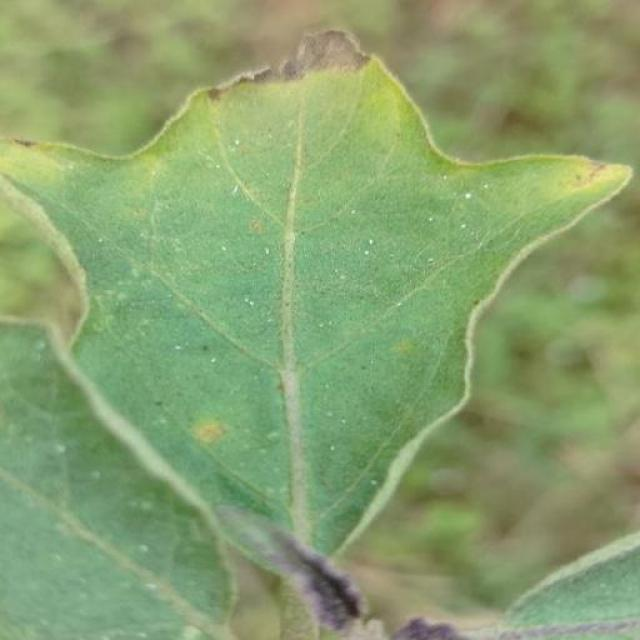leaf_spot: (214, 492, 484, 640), (374, 61, 640, 202), (125, 222, 257, 367), (2, 106, 162, 221), (28, 208, 120, 364), (231, 92, 408, 172), (217, 27, 389, 98), (356, 156, 463, 240), (152, 84, 242, 144), (470, 232, 521, 337), (236, 271, 312, 338), (234, 168, 277, 250), (451, 186, 506, 240), (311, 404, 360, 462), (182, 407, 243, 448), (128, 574, 191, 604), (381, 324, 421, 366), (93, 280, 135, 316), (96, 622, 160, 640), (324, 249, 358, 282), (133, 490, 164, 522), (85, 464, 122, 486), (47, 433, 77, 460), (174, 618, 210, 640), (13, 620, 51, 640), (134, 538, 154, 557)
